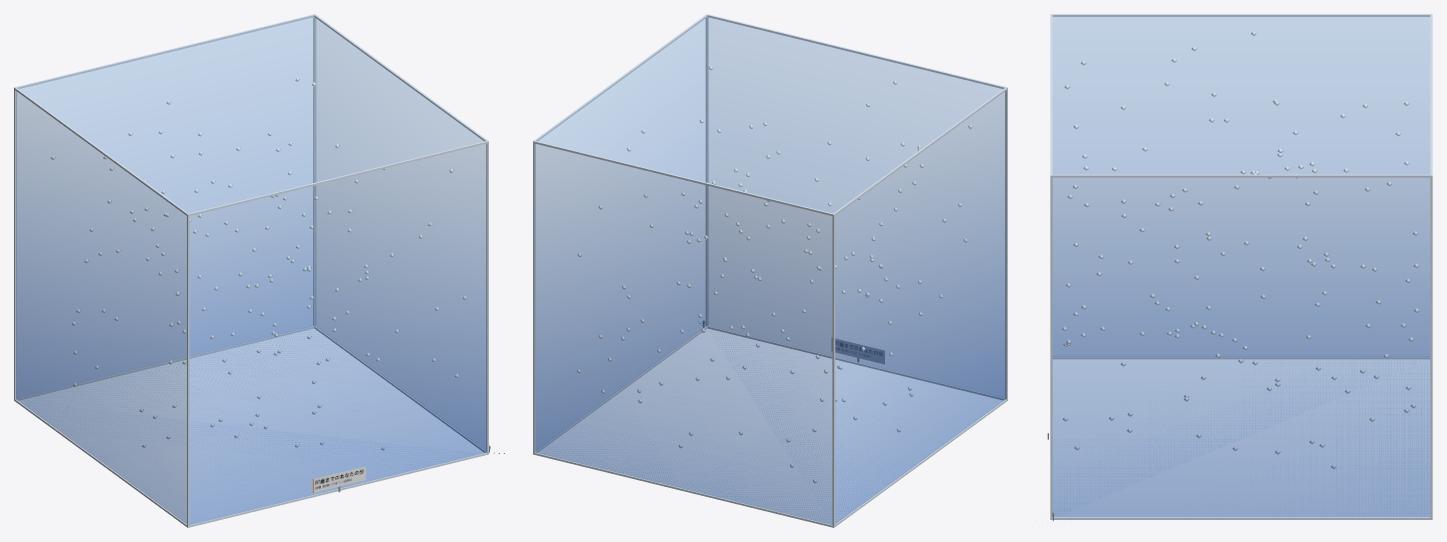
The model's file is cube_life_87.glb.
The picture shows the model from 3 angles, left to right: view 1: azimuth 30°, elevation 25°; view 2: azimuth 150°, elevation 25°; view 3: azimuth 270°, elevation 25°; orthographic projection. The views are drawn at different scales.
Parts seen in each view (by area): view 1: co2, edge, dots, label; view 2: co2, edge, dots, label; view 3: co2, edge, dots.
Part boxes in pixels (x1,y1,x2,y2): co2: [16, 15, 486, 524]; edge: [14, 14, 488, 527]; dots: [51, 77, 466, 450]; label: [312, 466, 365, 492]; co2: [535, 15, 1005, 524]; edge: [533, 14, 1007, 527]; dots: [577, 66, 972, 483]; label: [835, 339, 884, 364]; co2: [1052, 15, 1430, 516]; edge: [1050, 14, 1432, 519]; dots: [1062, 31, 1419, 469].
Size of the model in its own units: 71.31 by 67.54 by 70.41.
8 materials, 3 textured.
